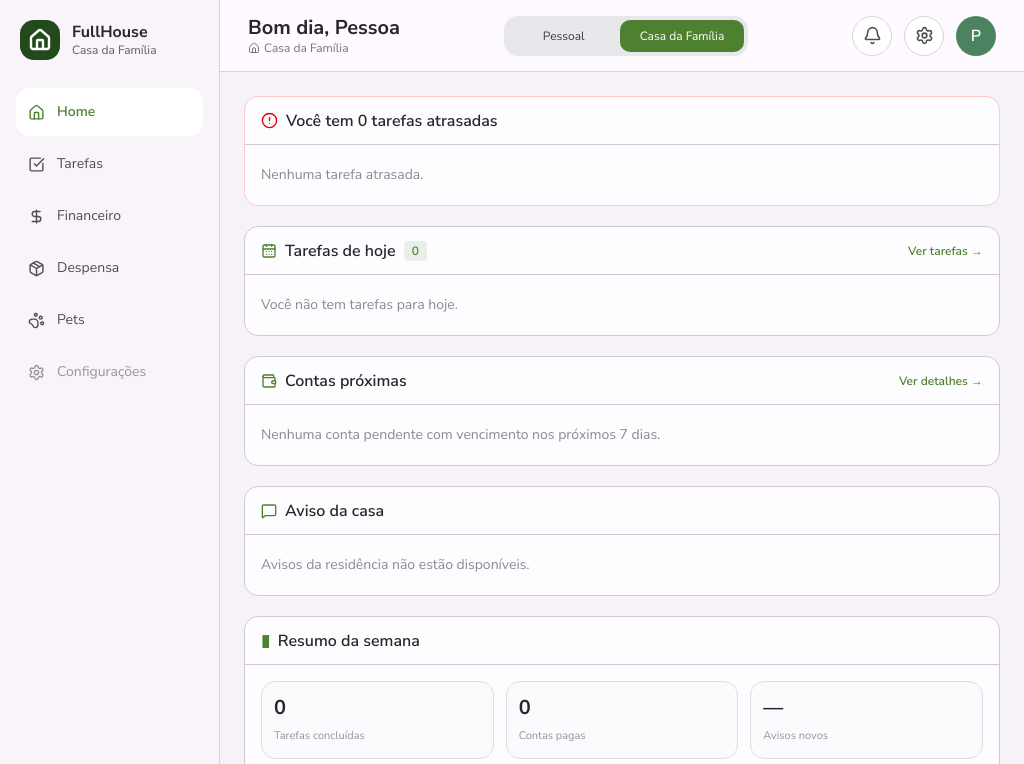
Test: HomePage › loads personal data on context change and omits residence members
Click the button "Pessoal".
click(564, 36)  # box 508,20 -> 620,52
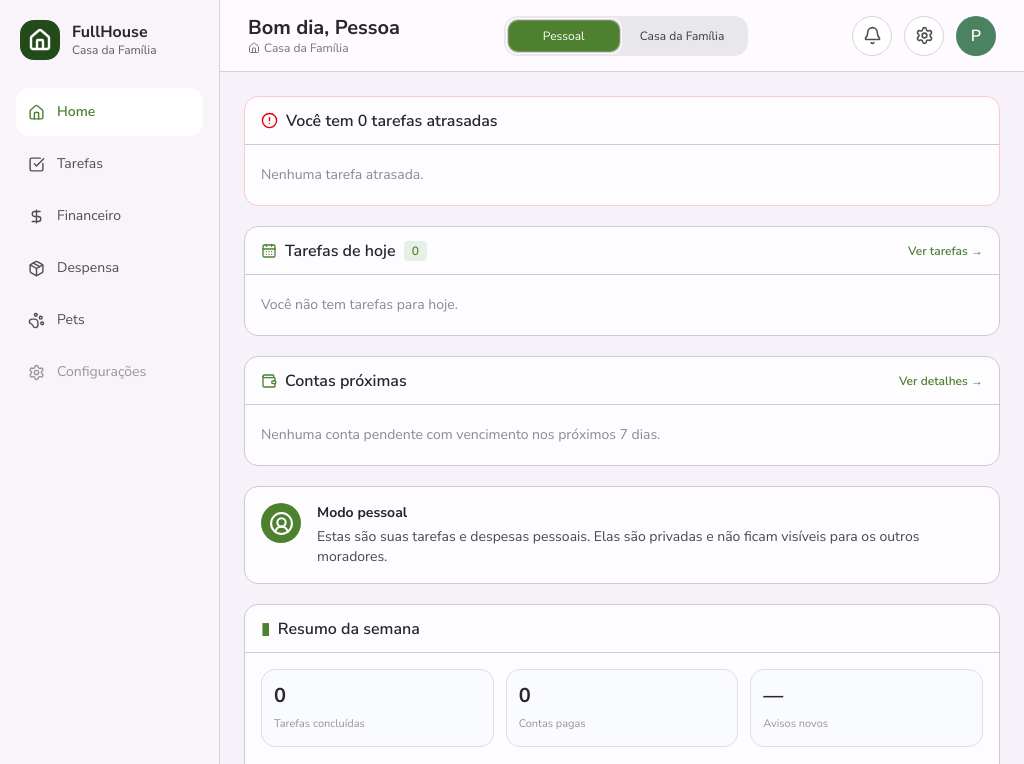
Now the heading "Modo pessoal" is shown, box 317,503 -> 407,522
Click the button "Casa da Família".
click(682, 36)  # box 620,20 -> 744,52
(page scrolled)
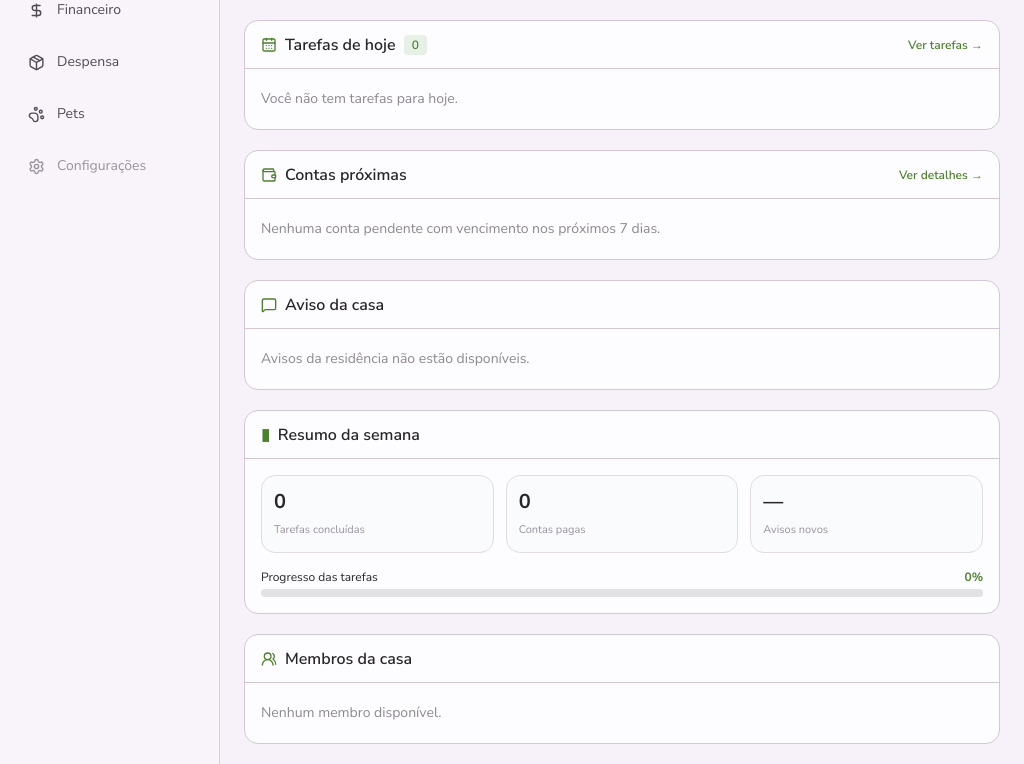
Now the heading "Membros da casa" is shown, box 261,646 -> 412,670
